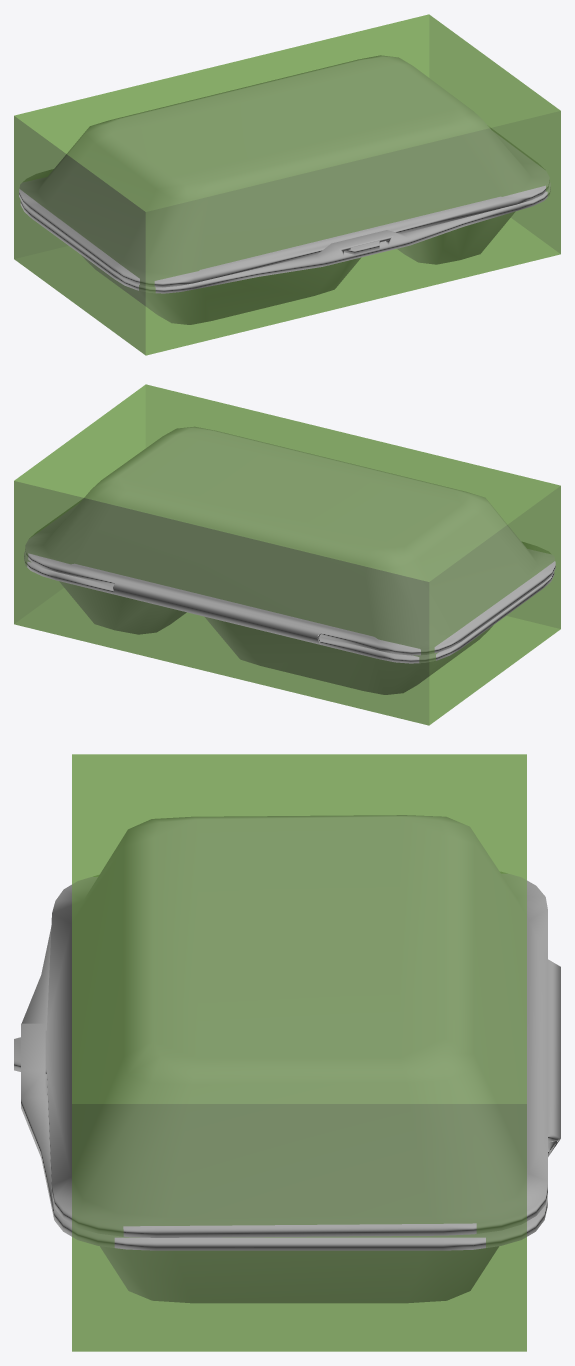
File: p_Packaging_01_a.fbx
3 renders of one model, top to bottom at view 1: azimuth 30°, elevation 25°; view 2: azimuth 150°, elevation 25°; view 3: azimuth 270°, elevation 25°, orthographic. The views are drawn at different scales.
Parts seen in each view (by area): view 1: p_Packaging_01_a_col, p_Packaging_01_a_LOD0; view 2: p_Packaging_01_a_col, p_Packaging_01_a_LOD0; view 3: p_Packaging_01_a_col, p_Packaging_01_a_LOD0.
Boxes of the visible parts, box(x1,y1,x2,y2) form: p_Packaging_01_a_col: box(14, 14, 560, 355); p_Packaging_01_a_LOD0: box(19, 55, 550, 324); p_Packaging_01_a_col: box(14, 384, 560, 725); p_Packaging_01_a_LOD0: box(24, 426, 555, 694); p_Packaging_01_a_col: box(72, 754, 526, 1351); p_Packaging_01_a_LOD0: box(14, 815, 560, 1303).
Size of what is drawn, in the model's own units: 26.49 by 8.73 by 17.06.
